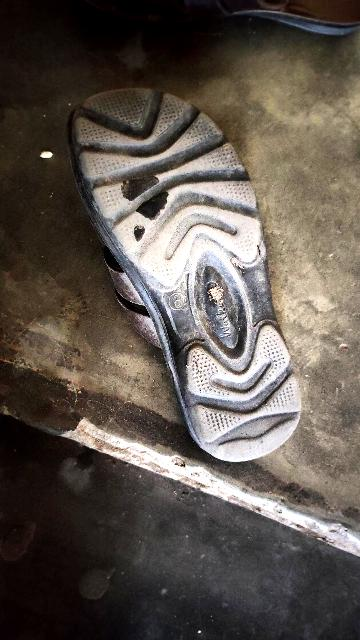sandal: (51, 42, 345, 479)
